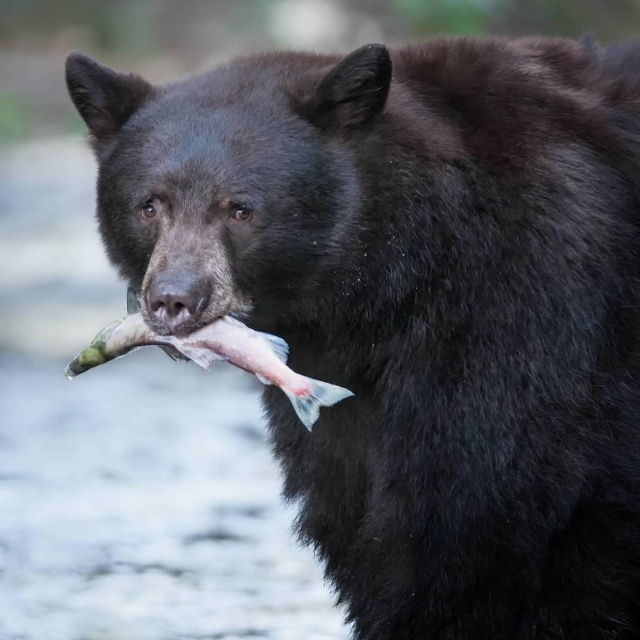Bear: (64, 29, 640, 640)
